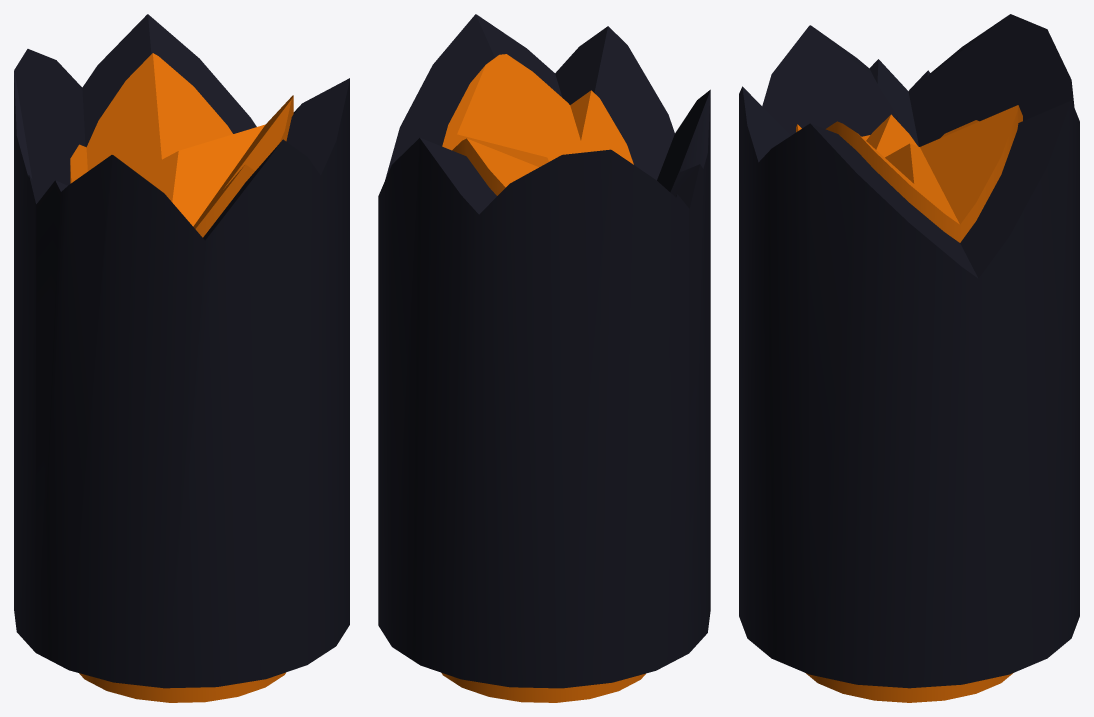
Rendered from Destroyed Fuel Cell Basic Final.fbx.
3 renders of one model, left to right at view 1: azimuth 30°, elevation 25°; view 2: azimuth 150°, elevation 25°; view 3: azimuth 270°, elevation 25°, orthographic. The views are drawn at different scales.
Parts seen in each view (by area): view 1: pCylinder2, pasted__pCylinder1; view 2: pCylinder2, pasted__pCylinder1; view 3: pCylinder2, pasted__pCylinder1.
Boxes of the visible parts, box(x1,y1,x2,y2) form: pCylinder2: box(14, 14, 349, 688); pasted__pCylinder1: box(70, 53, 293, 702); pCylinder2: box(378, 14, 710, 688); pasted__pCylinder1: box(441, 54, 645, 702); pCylinder2: box(739, 14, 1079, 688); pasted__pCylinder1: box(796, 105, 1022, 702).
Size of the model in its own units: 0.2364 by 0.4515 by 0.2364.
